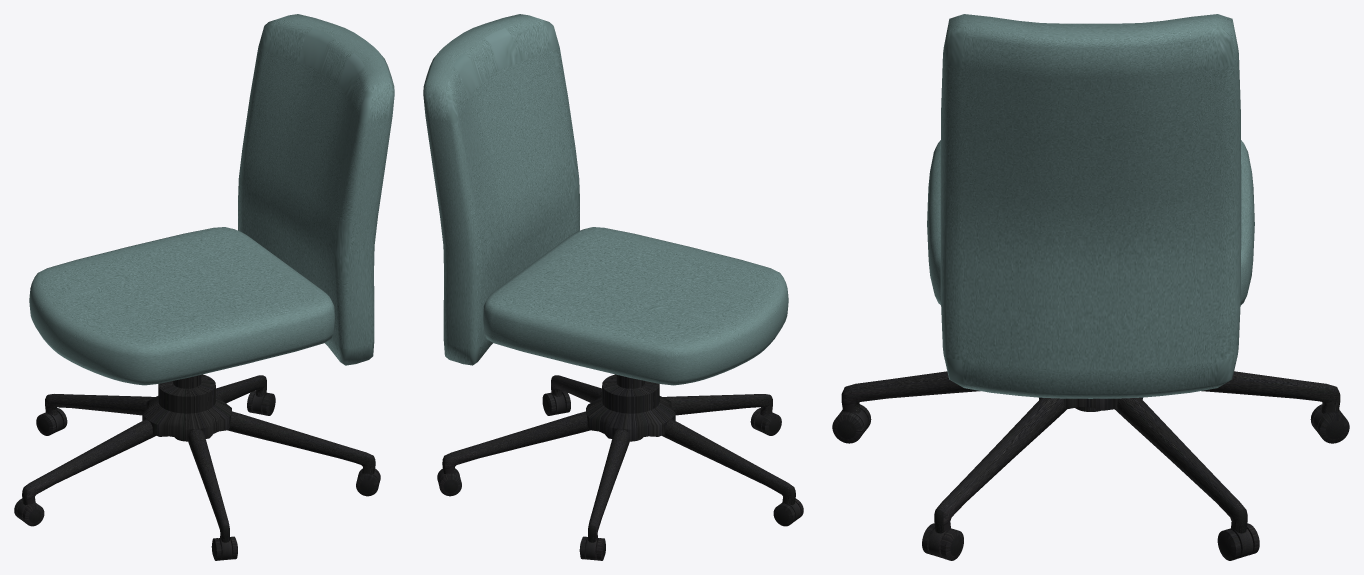
The model's file is silla.fbx.
3 renders of one model, left to right at view 1: azimuth 30°, elevation 25°; view 2: azimuth 150°, elevation 25°; view 3: azimuth 270°, elevation 25°, orthographic. The views are drawn at different scales.
Visible parts, largest first — view 1: Cylinder.002; view 2: Cylinder.002; view 3: Cylinder.002.
Boxes of the visible parts, <box> form: Cylinder.002: <box>14,14,394,560</box>; Cylinder.002: <box>423,14,803,560</box>; Cylinder.002: <box>832,14,1349,560</box>.
Size of the model in its own units: 254 by 278 by 235.
Materials: 3 (3 with a texture image).
